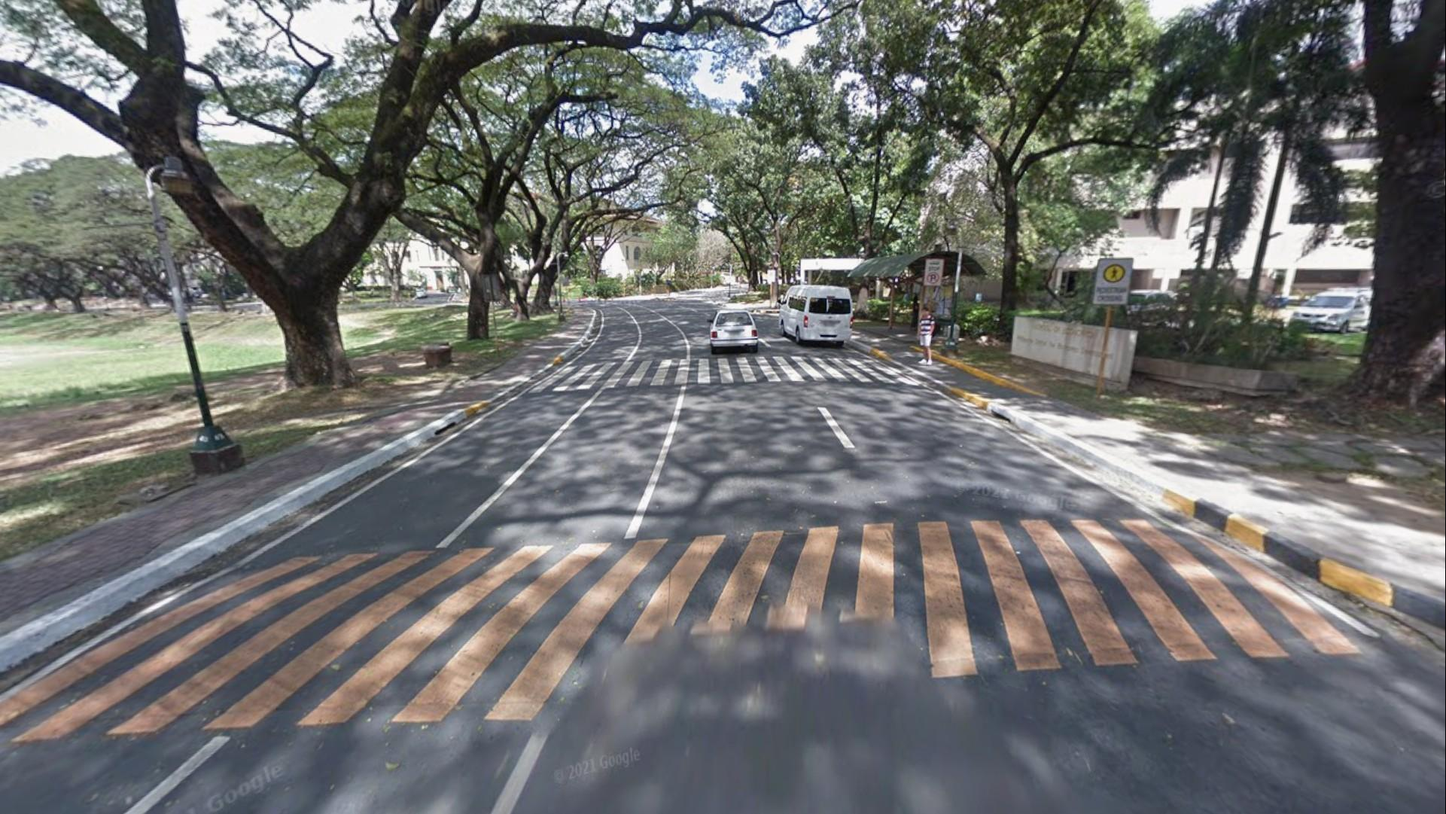pedestrian: (917, 306, 936, 366)
